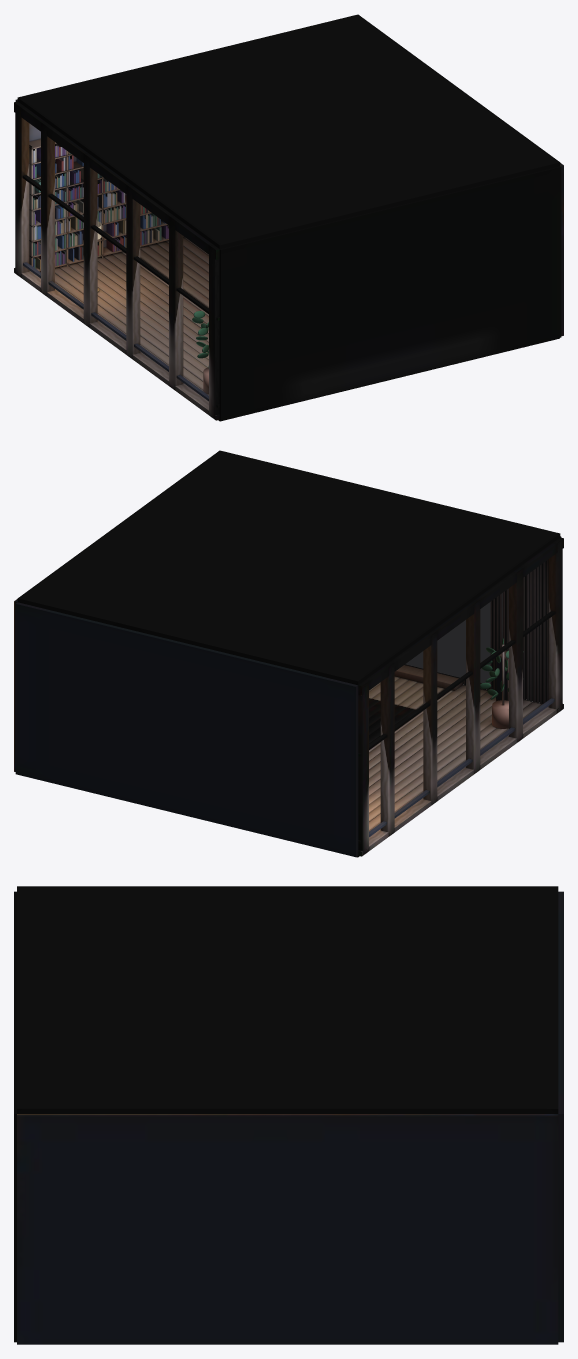
File: cabin.glb
3 renders of one model, top to bottom at view 1: azimuth 30°, elevation 25°; view 2: azimuth 150°, elevation 25°; view 3: azimuth 270°, elevation 25°, orthographic. The views are drawn at different scales.
Visible parts, largest first — view 1: hall, walls@R, walls@L; view 2: hall, walls@R, lights; view 3: hall, walls@L.
Boxes of the visible parts, bbox=[...] form: hall: bbox=[15, 14, 561, 421]; walls@R: bbox=[14, 101, 219, 420]; walls@L: bbox=[560, 163, 563, 336]; hall: bbox=[15, 450, 561, 857]; walls@R: bbox=[358, 537, 563, 856]; lights: bbox=[405, 602, 490, 683]; hall: bbox=[14, 886, 563, 1342]; walls@L: bbox=[17, 1114, 558, 1344].
Size of the model in its own units: 9.4 by 4.55 by 9.61.
9 materials, 3 textured.
